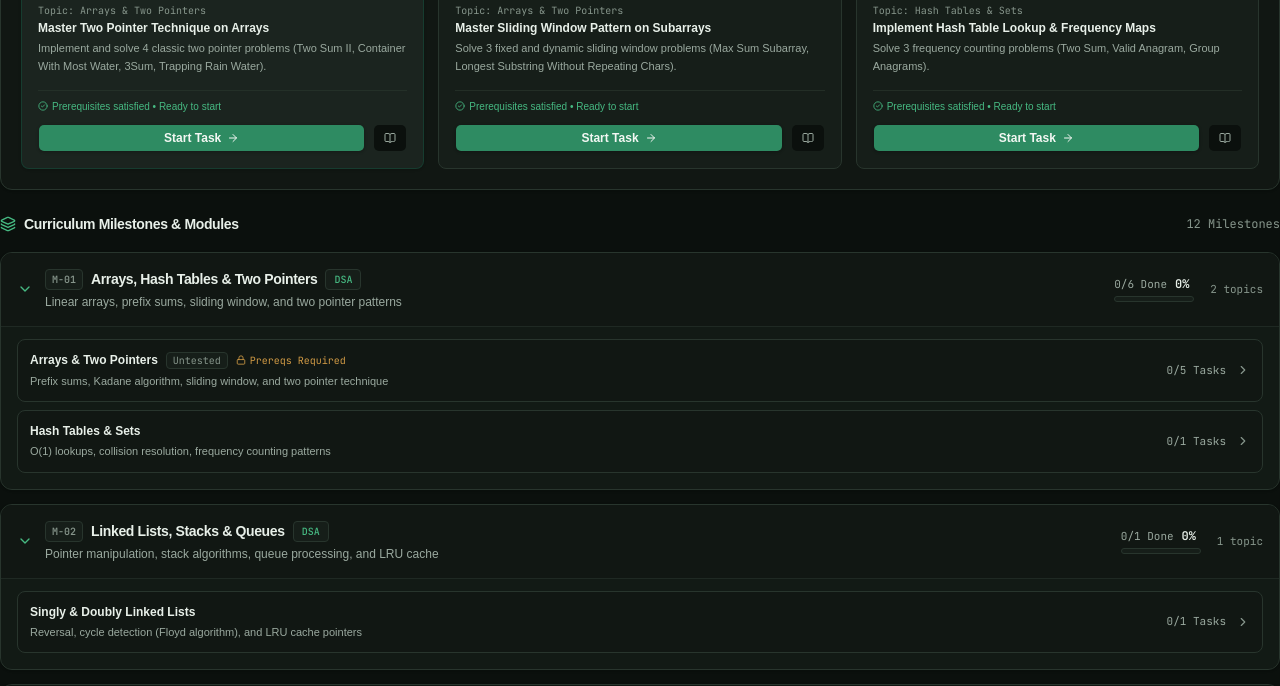
Test: F-UI-PRE-NAV: multi-level dependency chain › admits B only after A completes, and C only after B completes
(page scrolled)
Click the text "Arrays & Two Pointers" at (94, 360), box [30, 352, 158, 368]
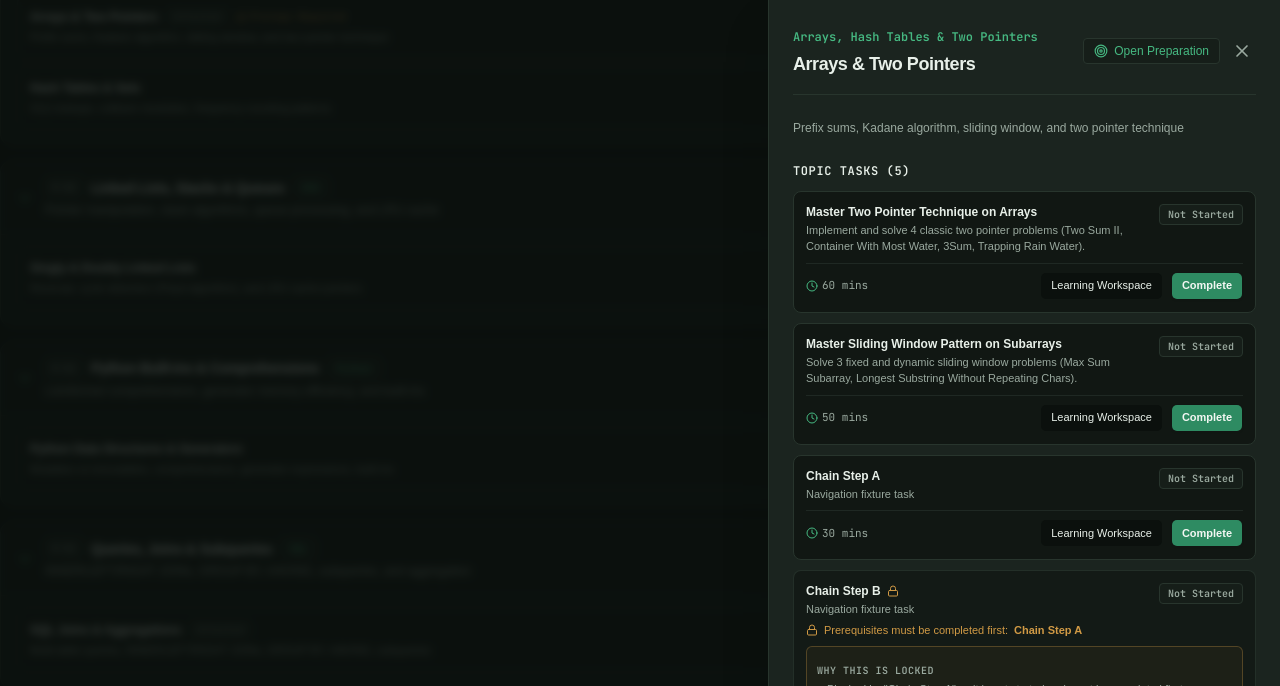
Click the button with test id "complete-btn-chain-a" at (1207, 533), box [1171, 519, 1243, 547]
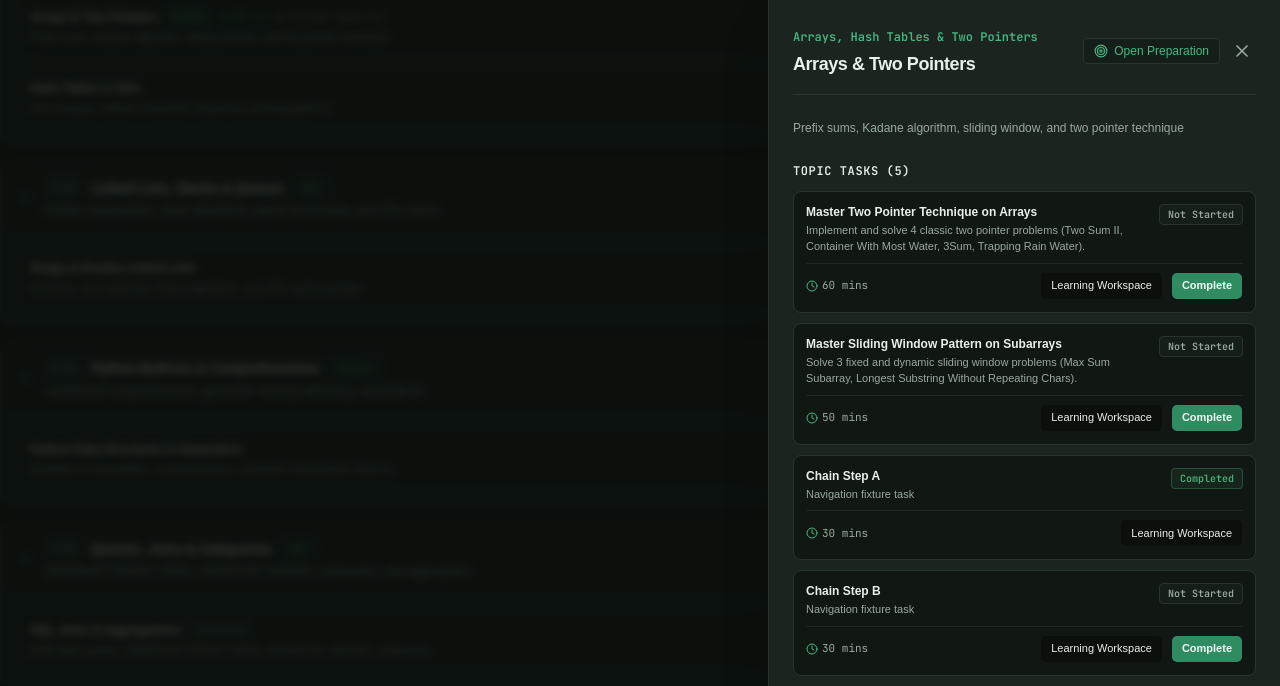
expect the button with test id "complete-btn-chain-b" is shown: met
expect the button with test id "complete-btn-chain-b" is enabled: met
Click the button with test id "complete-btn-chain-b" at (1207, 648), box [1171, 634, 1243, 662]
(page scrolled)
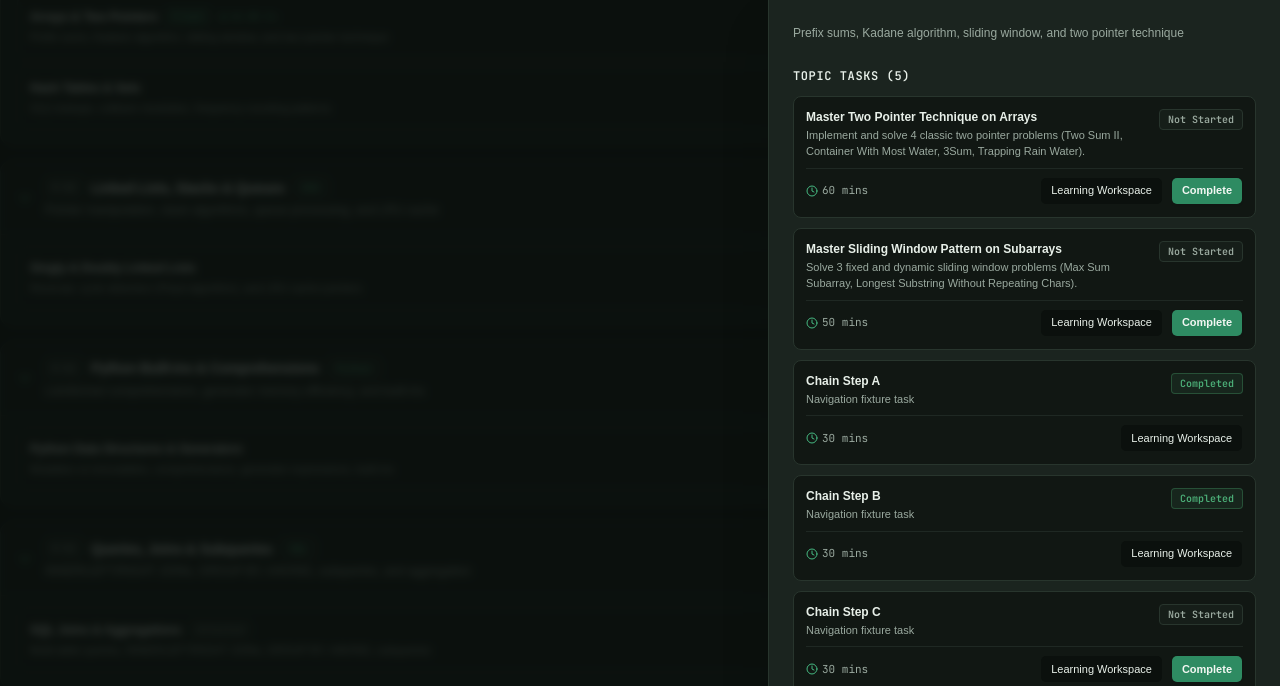
expect the button with test id "complete-btn-chain-c" is enabled: met, box [1171, 655, 1243, 683]
